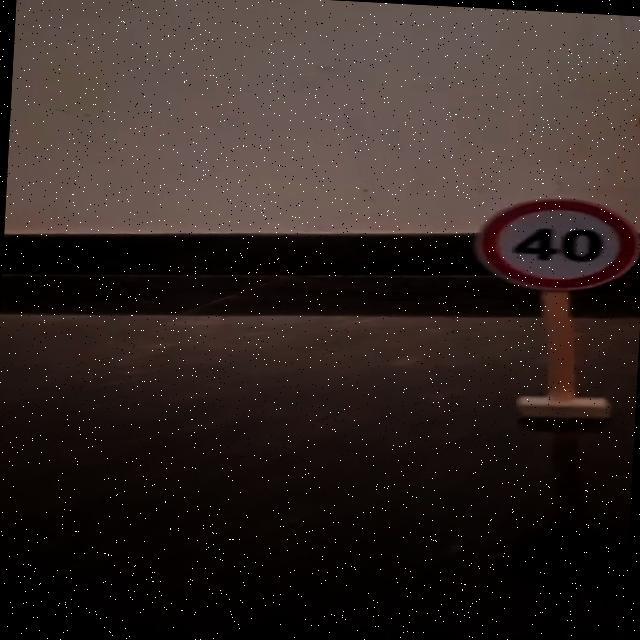Speed40: (469, 190, 640, 297)
